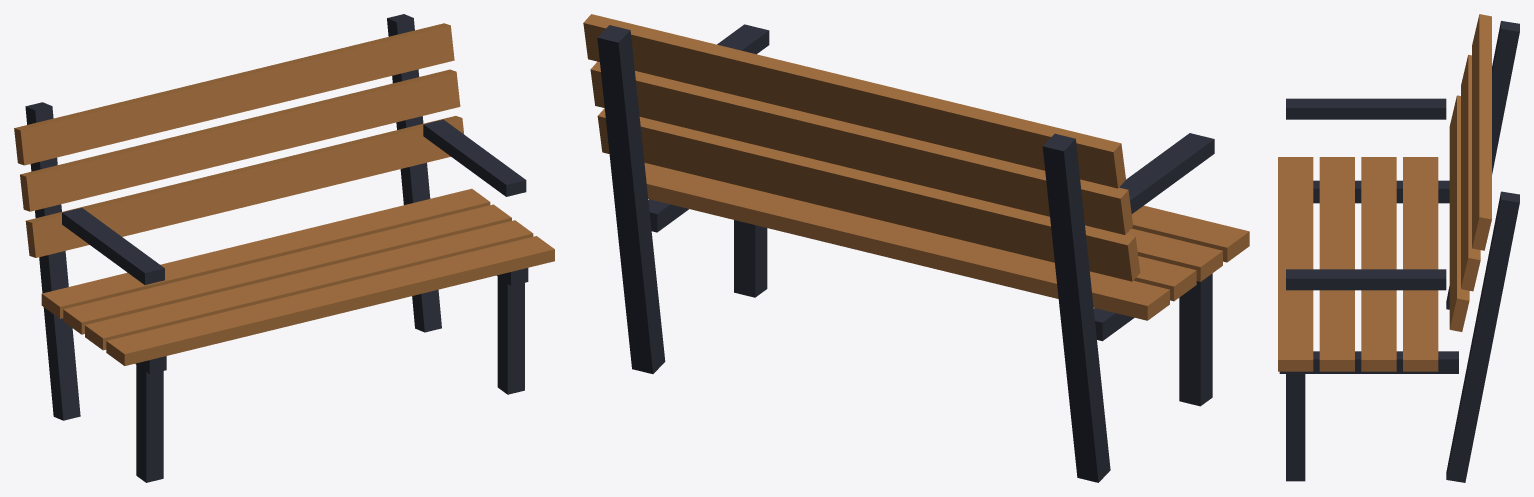
File: prop-bench.glb
The picture shows the model from 3 angles, left to right: view 1: azimuth 30°, elevation 25°; view 2: azimuth 150°, elevation 25°; view 3: azimuth 270°, elevation 25°; orthographic projection. The views are drawn at different scales.
Visible parts, largest first — view 1: bench_g_wood, bench_g_iron; view 2: bench_g_wood, bench_g_iron; view 3: bench_g_wood, bench_g_iron.
Boxes of the visible parts, <box> form: bench_g_wood: <box>14,23,554,365</box>; bench_g_iron: <box>25,14,528,482</box>; bench_g_wood: <box>583,14,1249,320</box>; bench_g_iron: <box>597,24,1214,482</box>; bench_g_wood: <box>1278,14,1491,371</box>; bench_g_iron: <box>1279,21,1519,482</box>.
Size of the model in its own units: 1.5 by 0.9755 by 0.7547.
